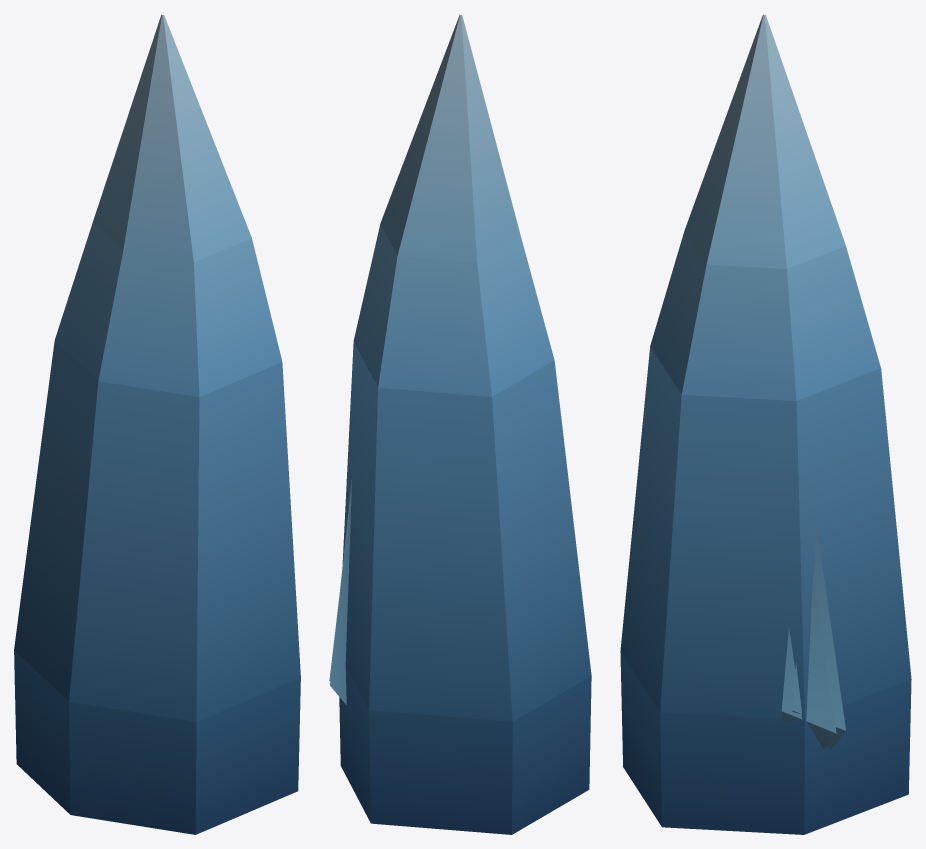
File: ice.shard-v2.glb
The picture shows the model from 3 angles, left to right: view 1: azimuth 30°, elevation 25°; view 2: azimuth 150°, elevation 25°; view 3: azimuth 270°, elevation 25°; orthographic projection.
Parts seen in each view (by area): view 1: ice.shard; view 2: ice.shard; view 3: ice.shard.
Boxes of the visible parts, left/top/right/bottom form: ice.shard: left=14, top=14, right=300, bottom=834; ice.shard: left=329, top=14, right=591, bottom=834; ice.shard: left=620, top=14, right=911, bottom=834.
Bounding box in the file's own units: 0.4205 × 1.4 × 0.4791.
